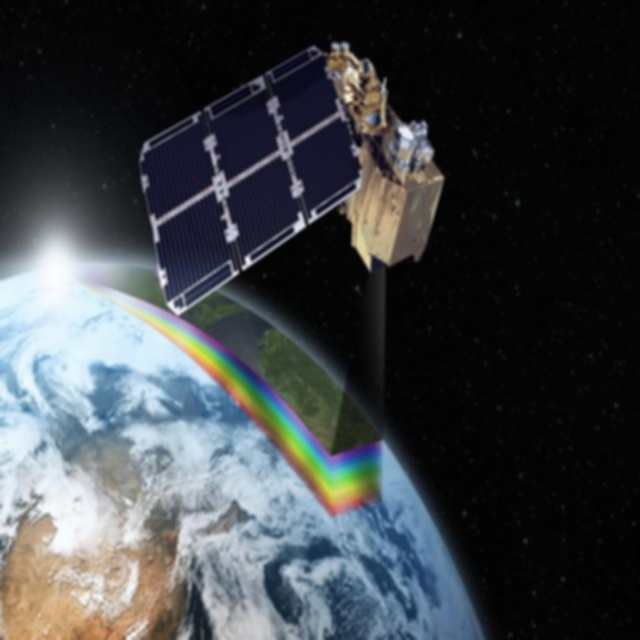medium_debris: (128, 0, 464, 343)
